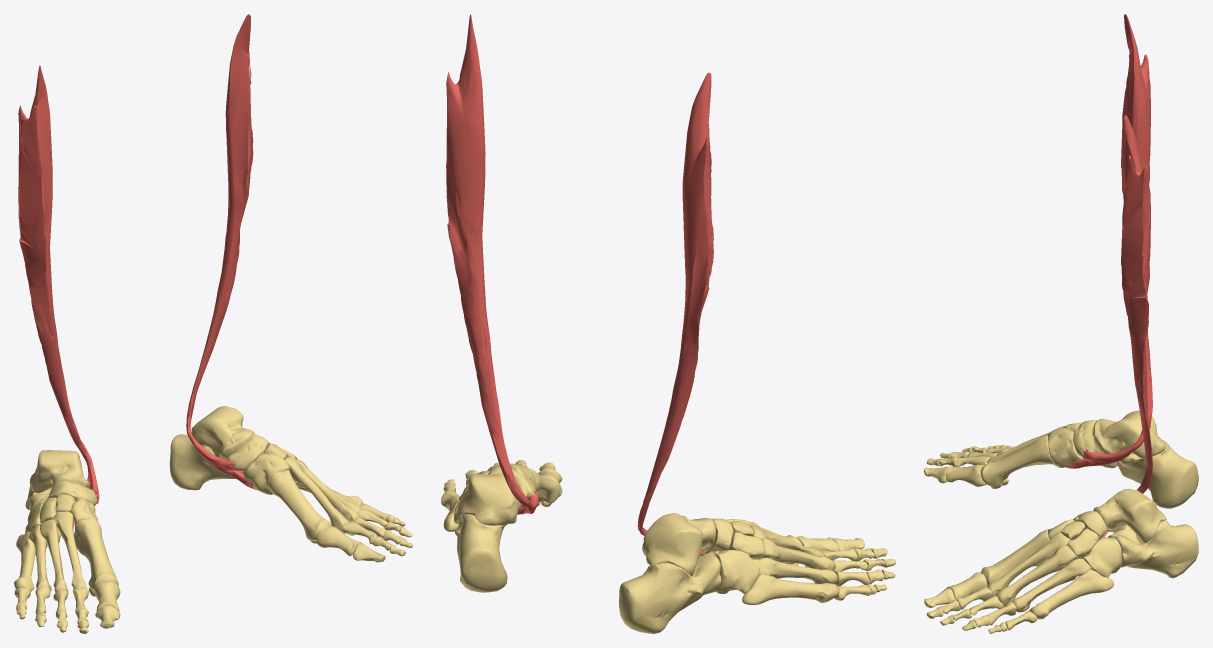
Rendered from ankle-foot.glb.
3 views of the same model, side by side, from view 1: azimuth 30°, elevation 25°; view 2: azimuth 150°, elevation 25°; view 3: azimuth 270°, elevation 25° (orthographic). The views are drawn at different scales.
Parts seen in each view (by area): view 1: ankle-foot:tibialis-posterior:isa:FJ1440, ankle-foot:tibialis-posterior:isa:FJ1440M, ankle-foot:talus:isa:FJ3280, ankle-foot:calcaneus:isa:FJ3256, ankle-foot:talus:isa:FJ3385, ankle-foot:first-metatarsal-bone:isa:FJ3351, ankle-foot:first-metatarsal-bone:isa:FJ3241, ankle-foot:medial-cuneiform-bone:isa:FJ3271, ankle-foot:second-metatarsal:isa:FJ3244, ankle-foot:second-metatarsal:isa:FJ3353, ankle-foot:third-metatarsal-bone:isa:FJ3355, ankle-foot:fifth-metatarsal-bone:isa:FJ3359 (+6 smaller); view 2: ankle-foot:tibialis-posterior:isa:FJ1440M, ankle-foot:tibialis-posterior:isa:FJ1440, ankle-foot:calcaneus:isa:FJ3360, ankle-foot:calcaneus:isa:FJ3256, ankle-foot:talus:isa:FJ3385, ankle-foot:talus:isa:FJ3280, ankle-foot:fifth-metatarsal-bone:isa:FJ3359, ankle-foot:cuboid-bone:isa:FJ3364, ankle-foot:fourth-metatarsal-bone:isa:FJ3357, ankle-foot:third-metatarsal-bone:isa:FJ3355, ankle-foot:first-metatarsal-bone:isa:FJ3241, ankle-foot:lateral-cuneiform-bone:isa:FJ3373 (+1 smaller); view 3: ankle-foot:tibialis-posterior:isa:FJ1440M, ankle-foot:tibialis-posterior:isa:FJ1440, ankle-foot:calcaneus:isa:FJ3256, ankle-foot:calcaneus:isa:FJ3360, ankle-foot:talus:isa:FJ3280, ankle-foot:talus:isa:FJ3385, ankle-foot:first-metatarsal-bone:isa:FJ3351, ankle-foot:fifth-metatarsal-bone:isa:FJ3253, ankle-foot:third-metatarsal-bone:isa:FJ3247, ankle-foot:fourth-metatarsal-bone:isa:FJ3250, ankle-foot:first-metatarsal-bone:isa:FJ3241, ankle-foot:cuboid-bone:isa:FJ3258 (+7 smaller).
Part boxes in pixels (x1,y1,x2,y2): ankle-foot:tibialis-posterior:isa:FJ1440: (18, 65, 99, 529); ankle-foot:tibialis-posterior:isa:FJ1440M: (186, 14, 257, 489); ankle-foot:talus:isa:FJ3280: (191, 406, 254, 459); ankle-foot:calcaneus:isa:FJ3256: (169, 434, 235, 490); ankle-foot:talus:isa:FJ3385: (29, 450, 89, 493); ankle-foot:first-metatarsal-bone:isa:FJ3351: (74, 517, 118, 591); ankle-foot:first-metatarsal-bone:isa:FJ3241: (268, 470, 331, 540); ankle-foot:medial-cuneiform-bone:isa:FJ3271: (243, 453, 289, 494); ankle-foot:second-metatarsal:isa:FJ3244: (285, 455, 349, 533); ankle-foot:second-metatarsal:isa:FJ3353: (53, 511, 86, 589); ankle-foot:third-metatarsal-bone:isa:FJ3355: (40, 519, 68, 594); ankle-foot:fifth-metatarsal-bone:isa:FJ3359: (14, 531, 35, 591); ankle-foot:tibialis-posterior:isa:FJ1440M: (446, 14, 538, 514); ankle-foot:tibialis-posterior:isa:FJ1440: (637, 72, 713, 556); ankle-foot:calcaneus:isa:FJ3360: (619, 552, 721, 633); ankle-foot:calcaneus:isa:FJ3256: (455, 501, 516, 592); ankle-foot:talus:isa:FJ3385: (642, 513, 715, 576); ankle-foot:talus:isa:FJ3280: (459, 467, 527, 525); ankle-foot:fifth-metatarsal-bone:isa:FJ3359: (742, 574, 839, 604); ankle-foot:cuboid-bone:isa:FJ3364: (714, 550, 759, 594); ankle-foot:fourth-metatarsal-bone:isa:FJ3357: (758, 557, 837, 583); ankle-foot:third-metatarsal-bone:isa:FJ3355: (752, 538, 834, 570); ankle-foot:first-metatarsal-bone:isa:FJ3241: (521, 466, 560, 503); ankle-foot:lateral-cuneiform-bone:isa:FJ3373: (728, 532, 764, 558); ankle-foot:tibialis-posterior:isa:FJ1440M: (1100, 115, 1152, 538); ankle-foot:tibialis-posterior:isa:FJ1440: (1066, 14, 1152, 468); ankle-foot:calcaneus:isa:FJ3256: (1108, 520, 1198, 578); ankle-foot:calcaneus:isa:FJ3360: (1116, 440, 1198, 508); ankle-foot:talus:isa:FJ3280: (1093, 489, 1166, 543); ankle-foot:talus:isa:FJ3385: (1093, 410, 1166, 458); ankle-foot:first-metatarsal-bone:isa:FJ3351: (981, 435, 1053, 486); ankle-foot:fifth-metatarsal-bone:isa:FJ3253: (1029, 569, 1114, 619); ankle-foot:third-metatarsal-bone:isa:FJ3247: (996, 545, 1076, 606); ankle-foot:fourth-metatarsal-bone:isa:FJ3250: (1011, 558, 1091, 612); ankle-foot:first-metatarsal-bone:isa:FJ3241: (981, 529, 1049, 586); ankle-foot:cuboid-bone:isa:FJ3258: (1082, 536, 1122, 577).
Size of the model in its own units: 0.3387 by 0.4062 by 0.212.
